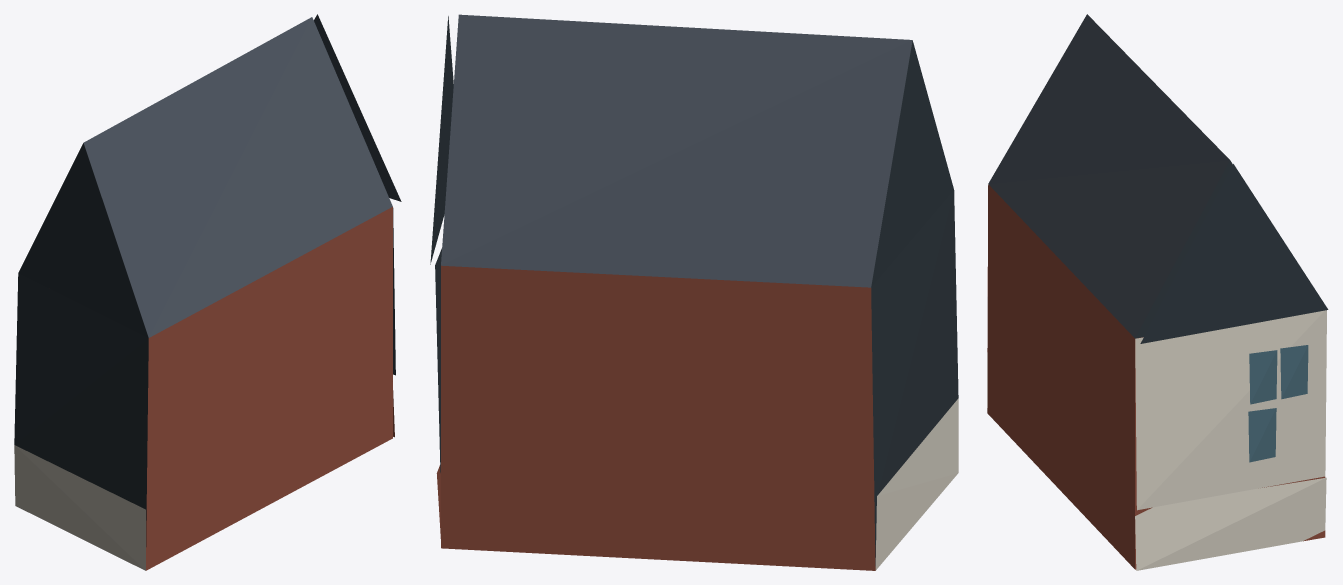
File: houten-huys.lod2.glb
The picture shows the model from 3 angles, left to right: view 1: azimuth 30°, elevation 25°; view 2: azimuth 150°, elevation 25°; view 3: azimuth 270°, elevation 25°; orthographic projection. The views are drawn at different scales.
Visible parts, largest first — view 1: lod2; view 2: lod2; view 3: lod2.
Boxes of the visible parts, x1,y1,x2,y2 form: lod2: (14, 14, 401, 570); lod2: (430, 14, 958, 570); lod2: (987, 14, 1328, 570).
Bounding box in the file's own units: 13.17 × 13.62 × 10.7.
